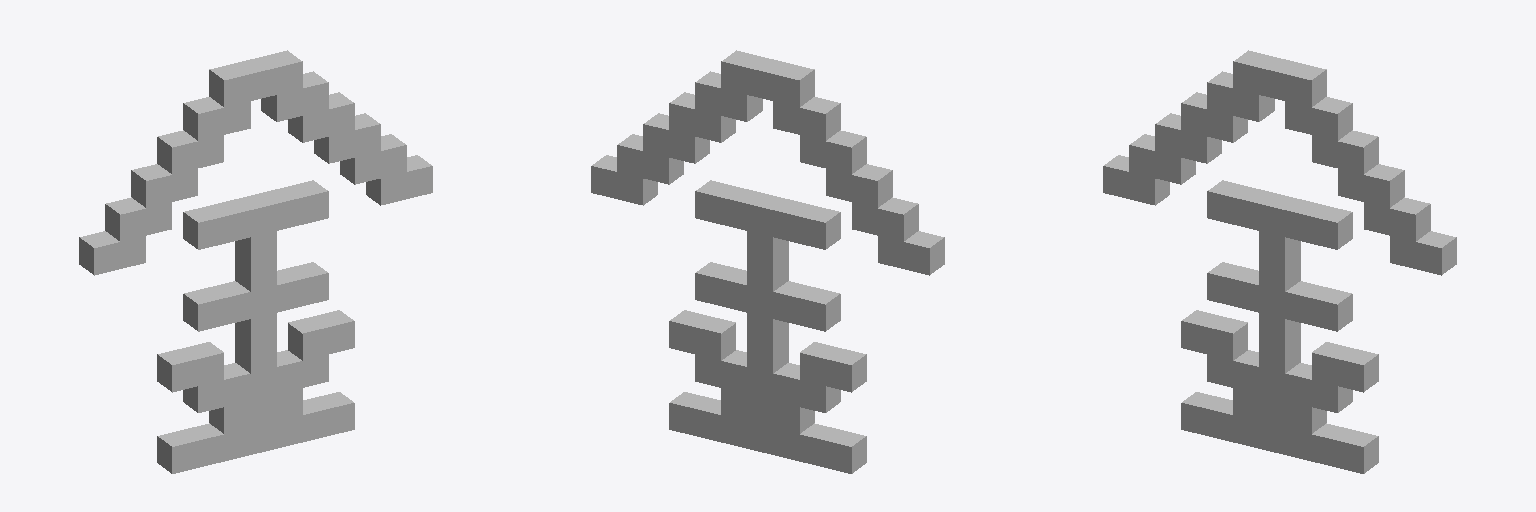
The model's file is money.obj.
3 renders of one model, left to right at view 1: azimuth 30°, elevation 25°; view 2: azimuth 150°, elevation 25°; view 3: azimuth 330°, elevation 25°, orthographic.
Parts seen in each view (by area): view 1: money; view 2: money; view 3: money.
Boxes of the visible parts, <box> form: money: <box>79,50,432,473</box>; money: <box>591,50,944,473</box>; money: <box>1103,50,1456,473</box>.
Size of the model in its own units: 13 by 14 by 1.